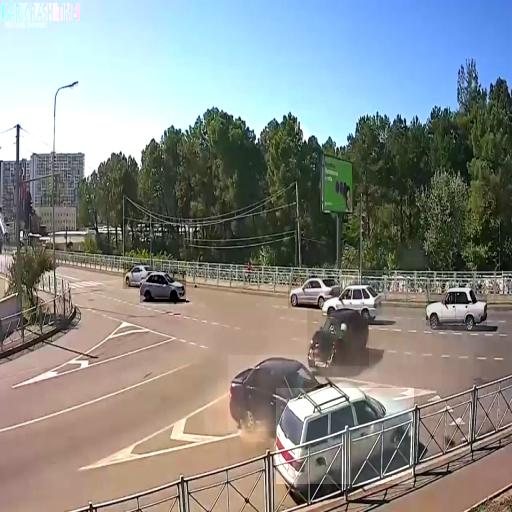小汽车: (276, 388, 414, 484), (228, 355, 316, 431), (307, 307, 369, 366), (426, 284, 487, 326), (323, 285, 382, 324), (288, 276, 335, 308), (140, 272, 186, 304), (123, 263, 147, 289)
